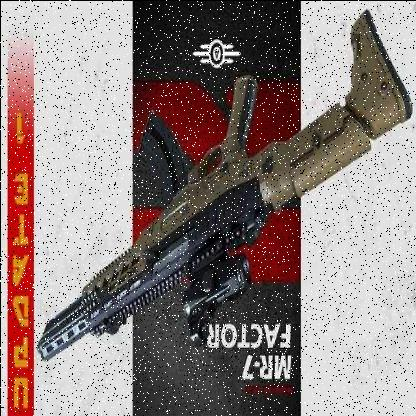rifle: (31, 1, 406, 371)
